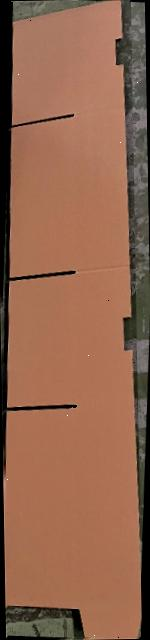box: (4, 1, 140, 638)
